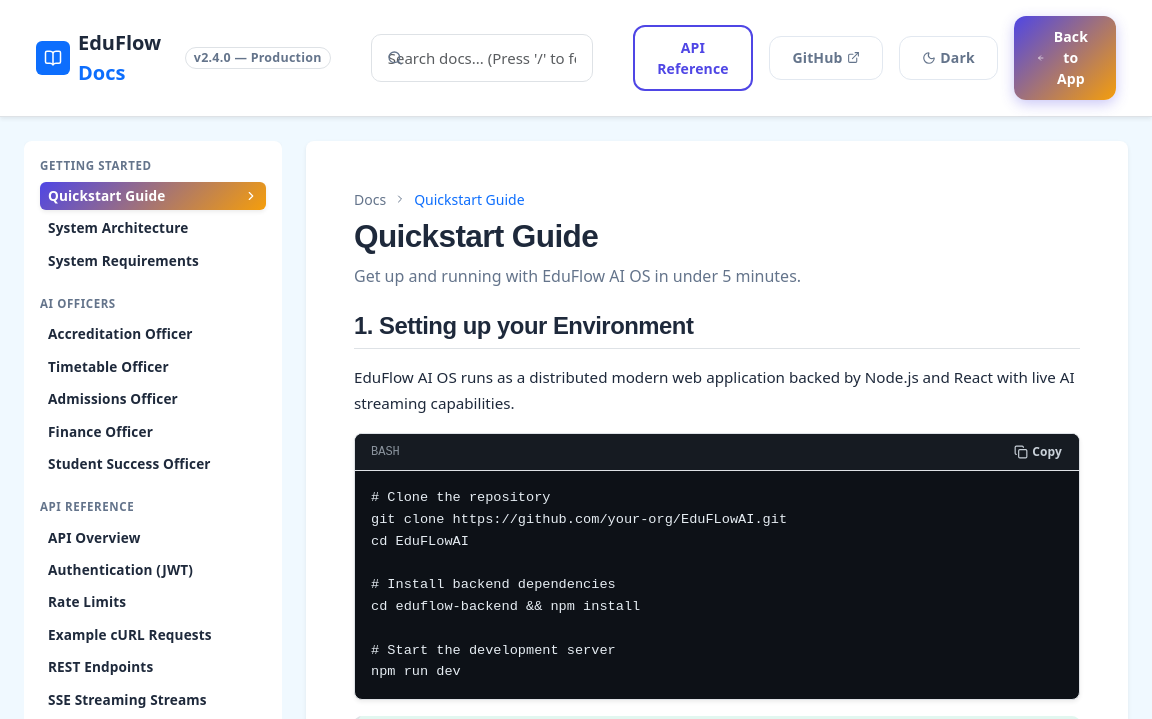
Scenario: DocsPage Component › Copy button works on code blocks
The image size is (1152, 719).
Click the button with aria-label "Copy code" at (1038, 452), box [1013,442,1063,462]
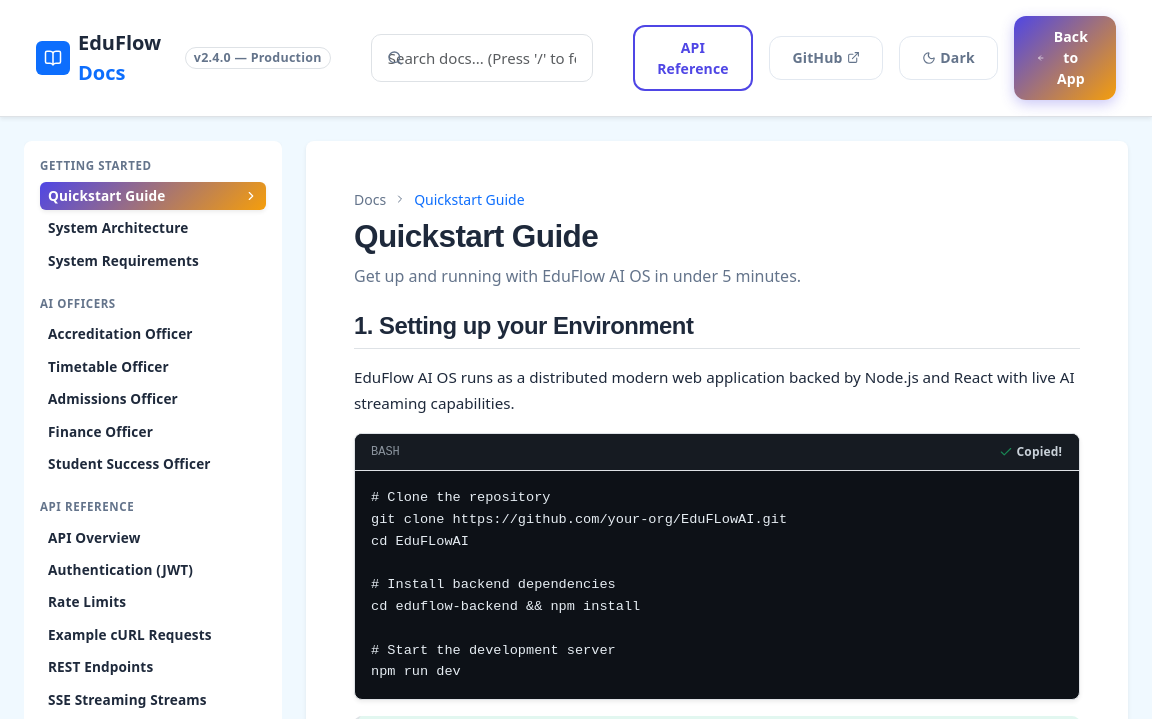
Result: the text "Copied!" is shown at [1017,443,1062,461]
